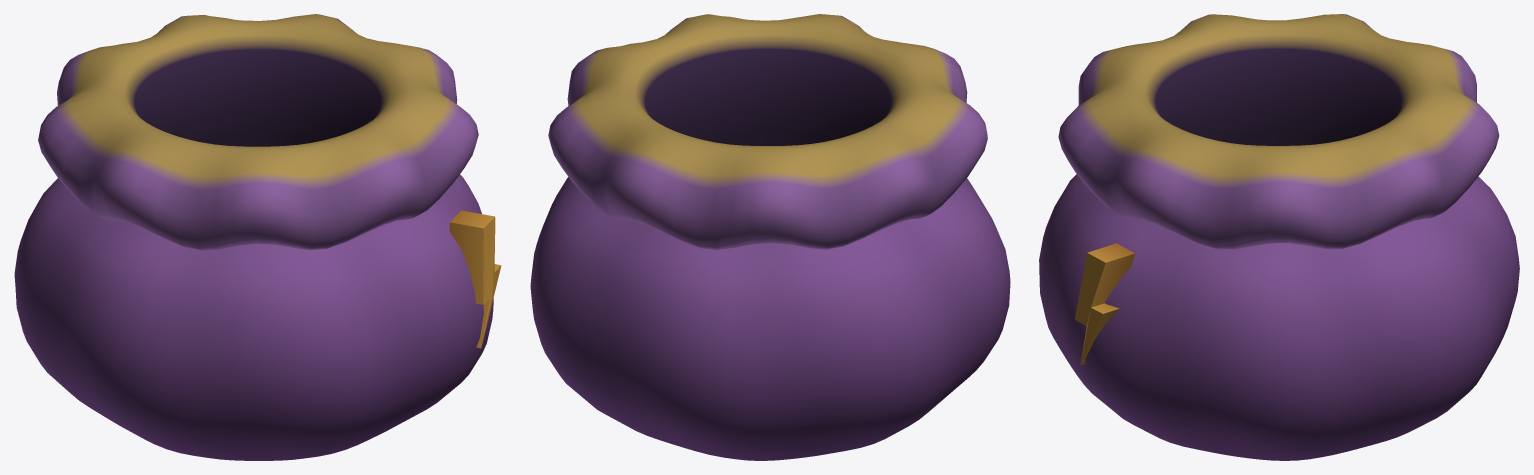
Rendered from Frenzy_Bag.glb.
3 renders of one model, left to right at view 1: azimuth 30°, elevation 25°; view 2: azimuth 150°, elevation 25°; view 3: azimuth 270°, elevation 25°, orthographic.
Parts seen in each view (by area): view 1: FrenzyBag; view 2: FrenzyBag; view 3: FrenzyBag.
Part boxes in pixels (bbox=[...]): FrenzyBag: bbox=[14, 14, 501, 460]; FrenzyBag: bbox=[530, 14, 1010, 460]; FrenzyBag: bbox=[1039, 14, 1519, 460].
Bounding box in the file's own units: 1.94 × 1.49 × 1.95.
